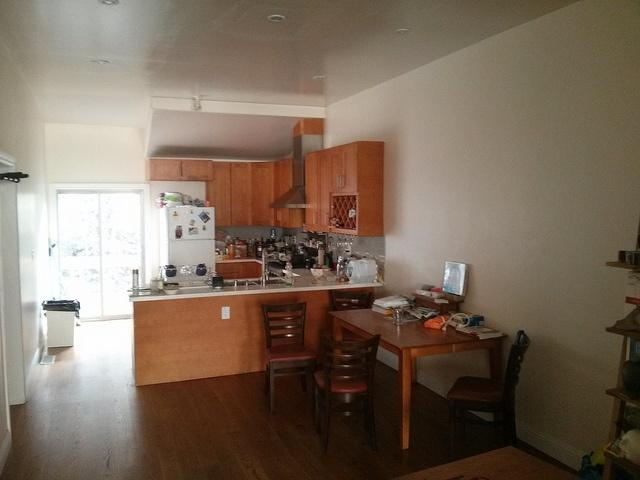Kursi: (444, 329, 529, 455), (312, 333, 380, 455), (259, 300, 315, 411)
Lemari: (302, 141, 359, 236)
Meja: (327, 300, 509, 371)
